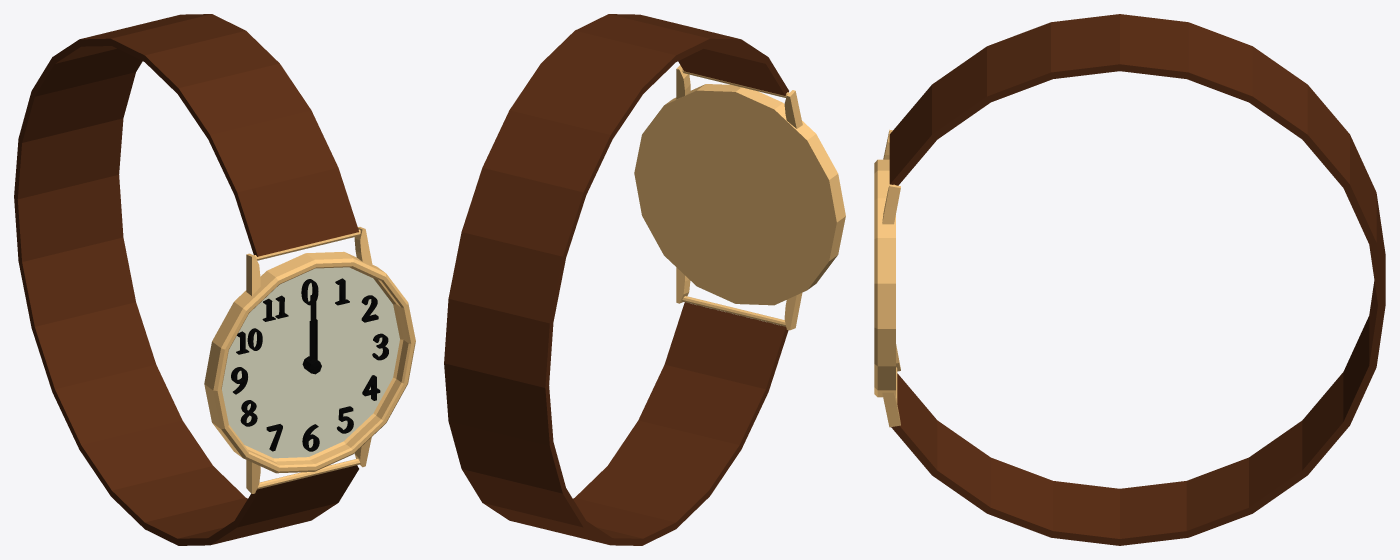
File: theme02_watch03.fbx
3 renders of one model, left to right at view 1: azimuth 30°, elevation 25°; view 2: azimuth 150°, elevation 25°; view 3: azimuth 270°, elevation 25°, orthographic.
Parts seen in each view (by area): view 1: watch03final; view 2: watch03final; view 3: watch03final.
Boxes of the visible parts, x1,y1,x2,y2 form: watch03final: [14, 14, 415, 545]; watch03final: [444, 14, 845, 545]; watch03final: [874, 14, 1385, 545].
Bounding box in the file's own units: 45.16 × 101 × 97.08.
